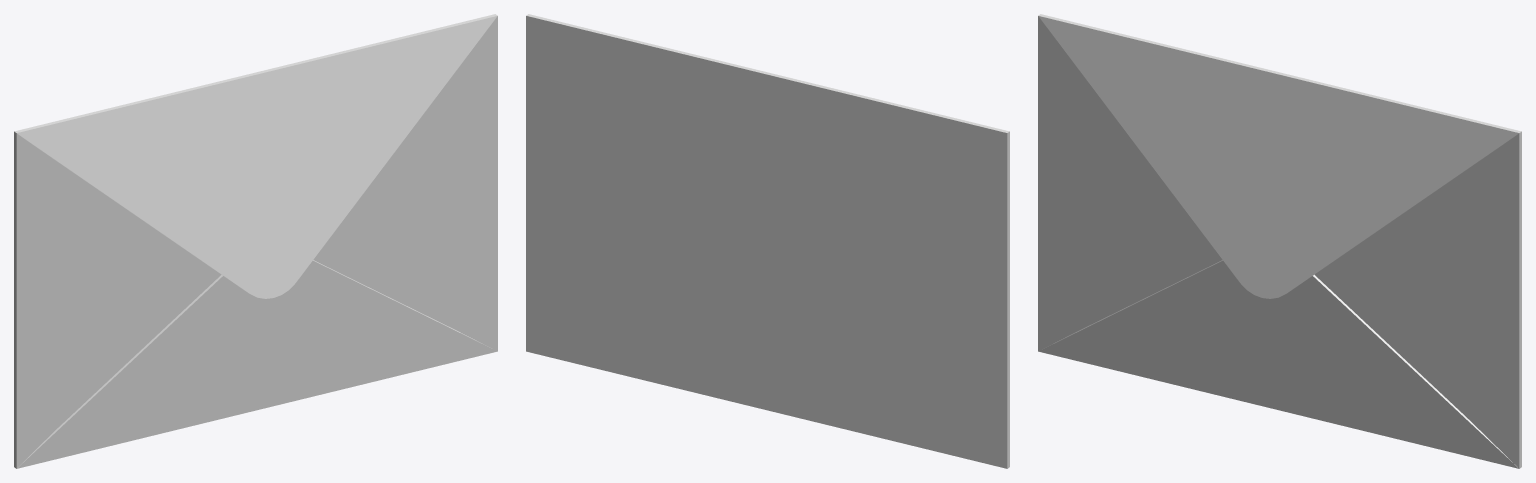
The model's file is envelope.glb.
3 views of the same model, side by side, from view 1: azimuth 30°, elevation 25°; view 2: azimuth 150°, elevation 25°; view 3: azimuth 330°, elevation 25° (orthographic).
Parts seen in each view (by area): view 1: Plane.332; view 2: Plane.332; view 3: Plane.332.
Part boxes in pixels (x1,y1,x2,y2): Plane.332: (14,14,497,468); Plane.332: (526,14,1009,468); Plane.332: (1038,14,1521,468).
Bounding box in the file's own units: 2.34 × 1.56 × 0.1601.
1 material, 1 textured.
